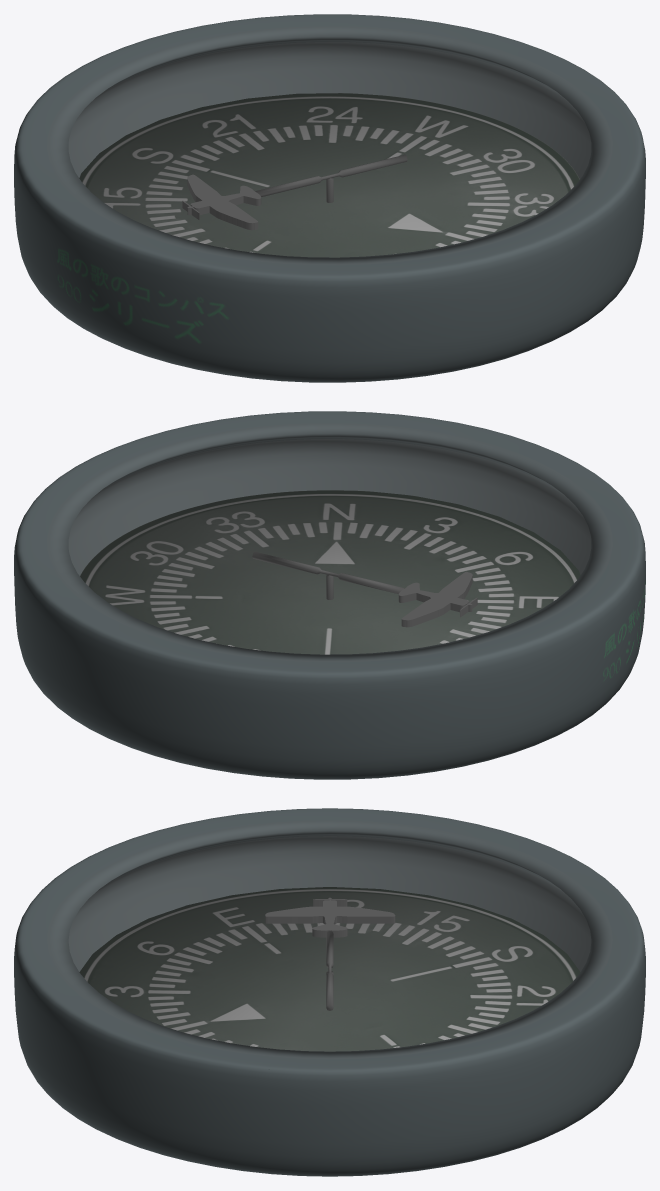
File: WindSongCompass_Sketchfab.fbx
3 renders of one model, top to bottom at view 1: azimuth 30°, elevation 25°; view 2: azimuth 150°, elevation 25°; view 3: azimuth 270°, elevation 25°, orthographic.
Parts seen in each view (by area): view 1: Compass_ring_Baked, Compass_Glass, Compass_Dial, Compass_Plane, Compass_NeedleC; view 2: Compass_ring_Baked, Compass_Glass, Compass_Dial, Compass_Plane, Compass_NeedleC; view 3: Compass_ring_Baked, Compass_Glass, Compass_Dial, Compass_Plane, Compass_NeedleC.
Boxes of the visible parts, <box> form: Compass_ring_Baked: <box>14,14,645,382</box>; Compass_Glass: <box>47,27,612,264</box>; Compass_Dial: <box>79,93,579,257</box>; Compass_Plane: <box>182,174,261,230</box>; Compass_NeedleC: <box>255,154,407,202</box>; Compass_ring_Baked: <box>14,411,645,779</box>; Compass_Glass: <box>47,424,612,661</box>; Compass_Dial: <box>80,490,580,654</box>; Compass_Plane: <box>398,571,477,627</box>; Compass_NeedleC: <box>252,551,404,599</box>; Compass_ring_Baked: <box>14,808,645,1176</box>; Compass_Glass: <box>47,821,612,1058</box>; Compass_Dial: <box>79,887,580,1051</box>; Compass_Plane: <box>265,897,395,937</box>; Compass_NeedleC: <box>326,931,333,1010</box>.
Bounding box in the file's own units: 179 × 34.92 × 179.
4 materials, 2 textured.
